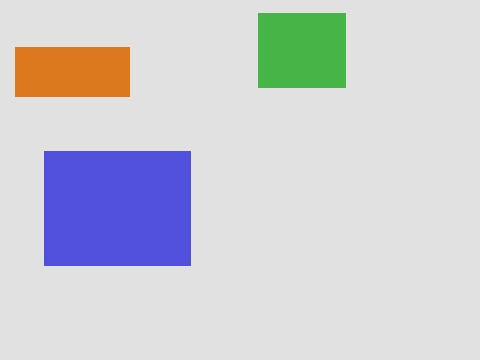square: (15, 47, 129, 96)
tall_box: (44, 151, 190, 265)
wide_box: (258, 13, 345, 87)
